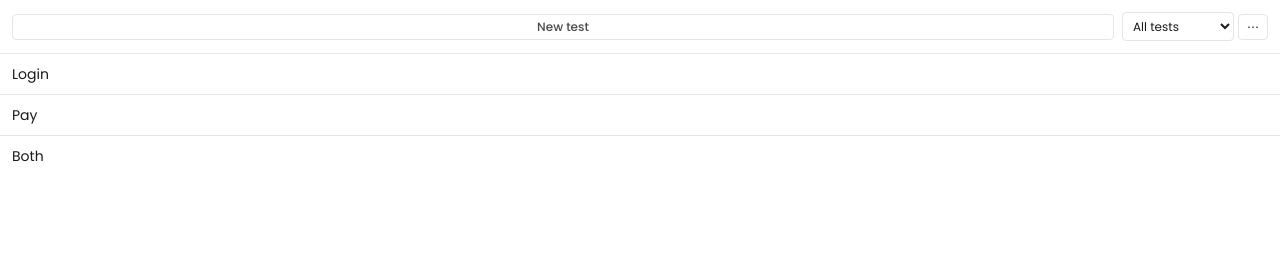
Test: SuiteFilter › offers the suite actions, with Run suite disabled for All tests
Click the button named "Suite actions" at (1253,26), box x1=1238 y1=14 x2=1268 y2=40
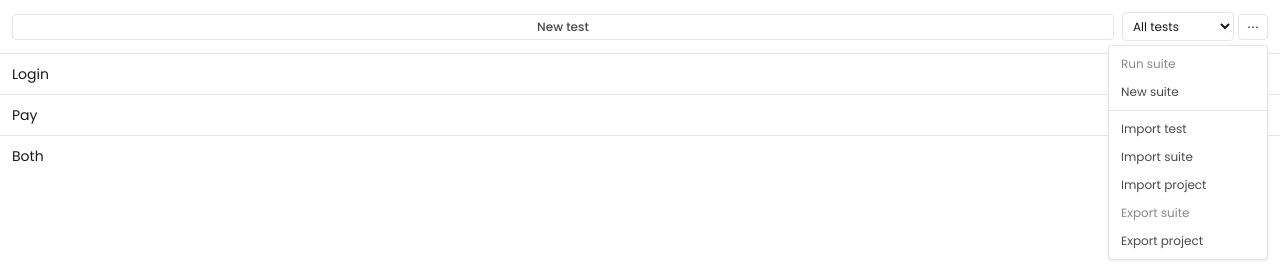
Check: the menu item "Run suite" is disabled, box x1=1109 y1=50 x2=1267 y2=78
